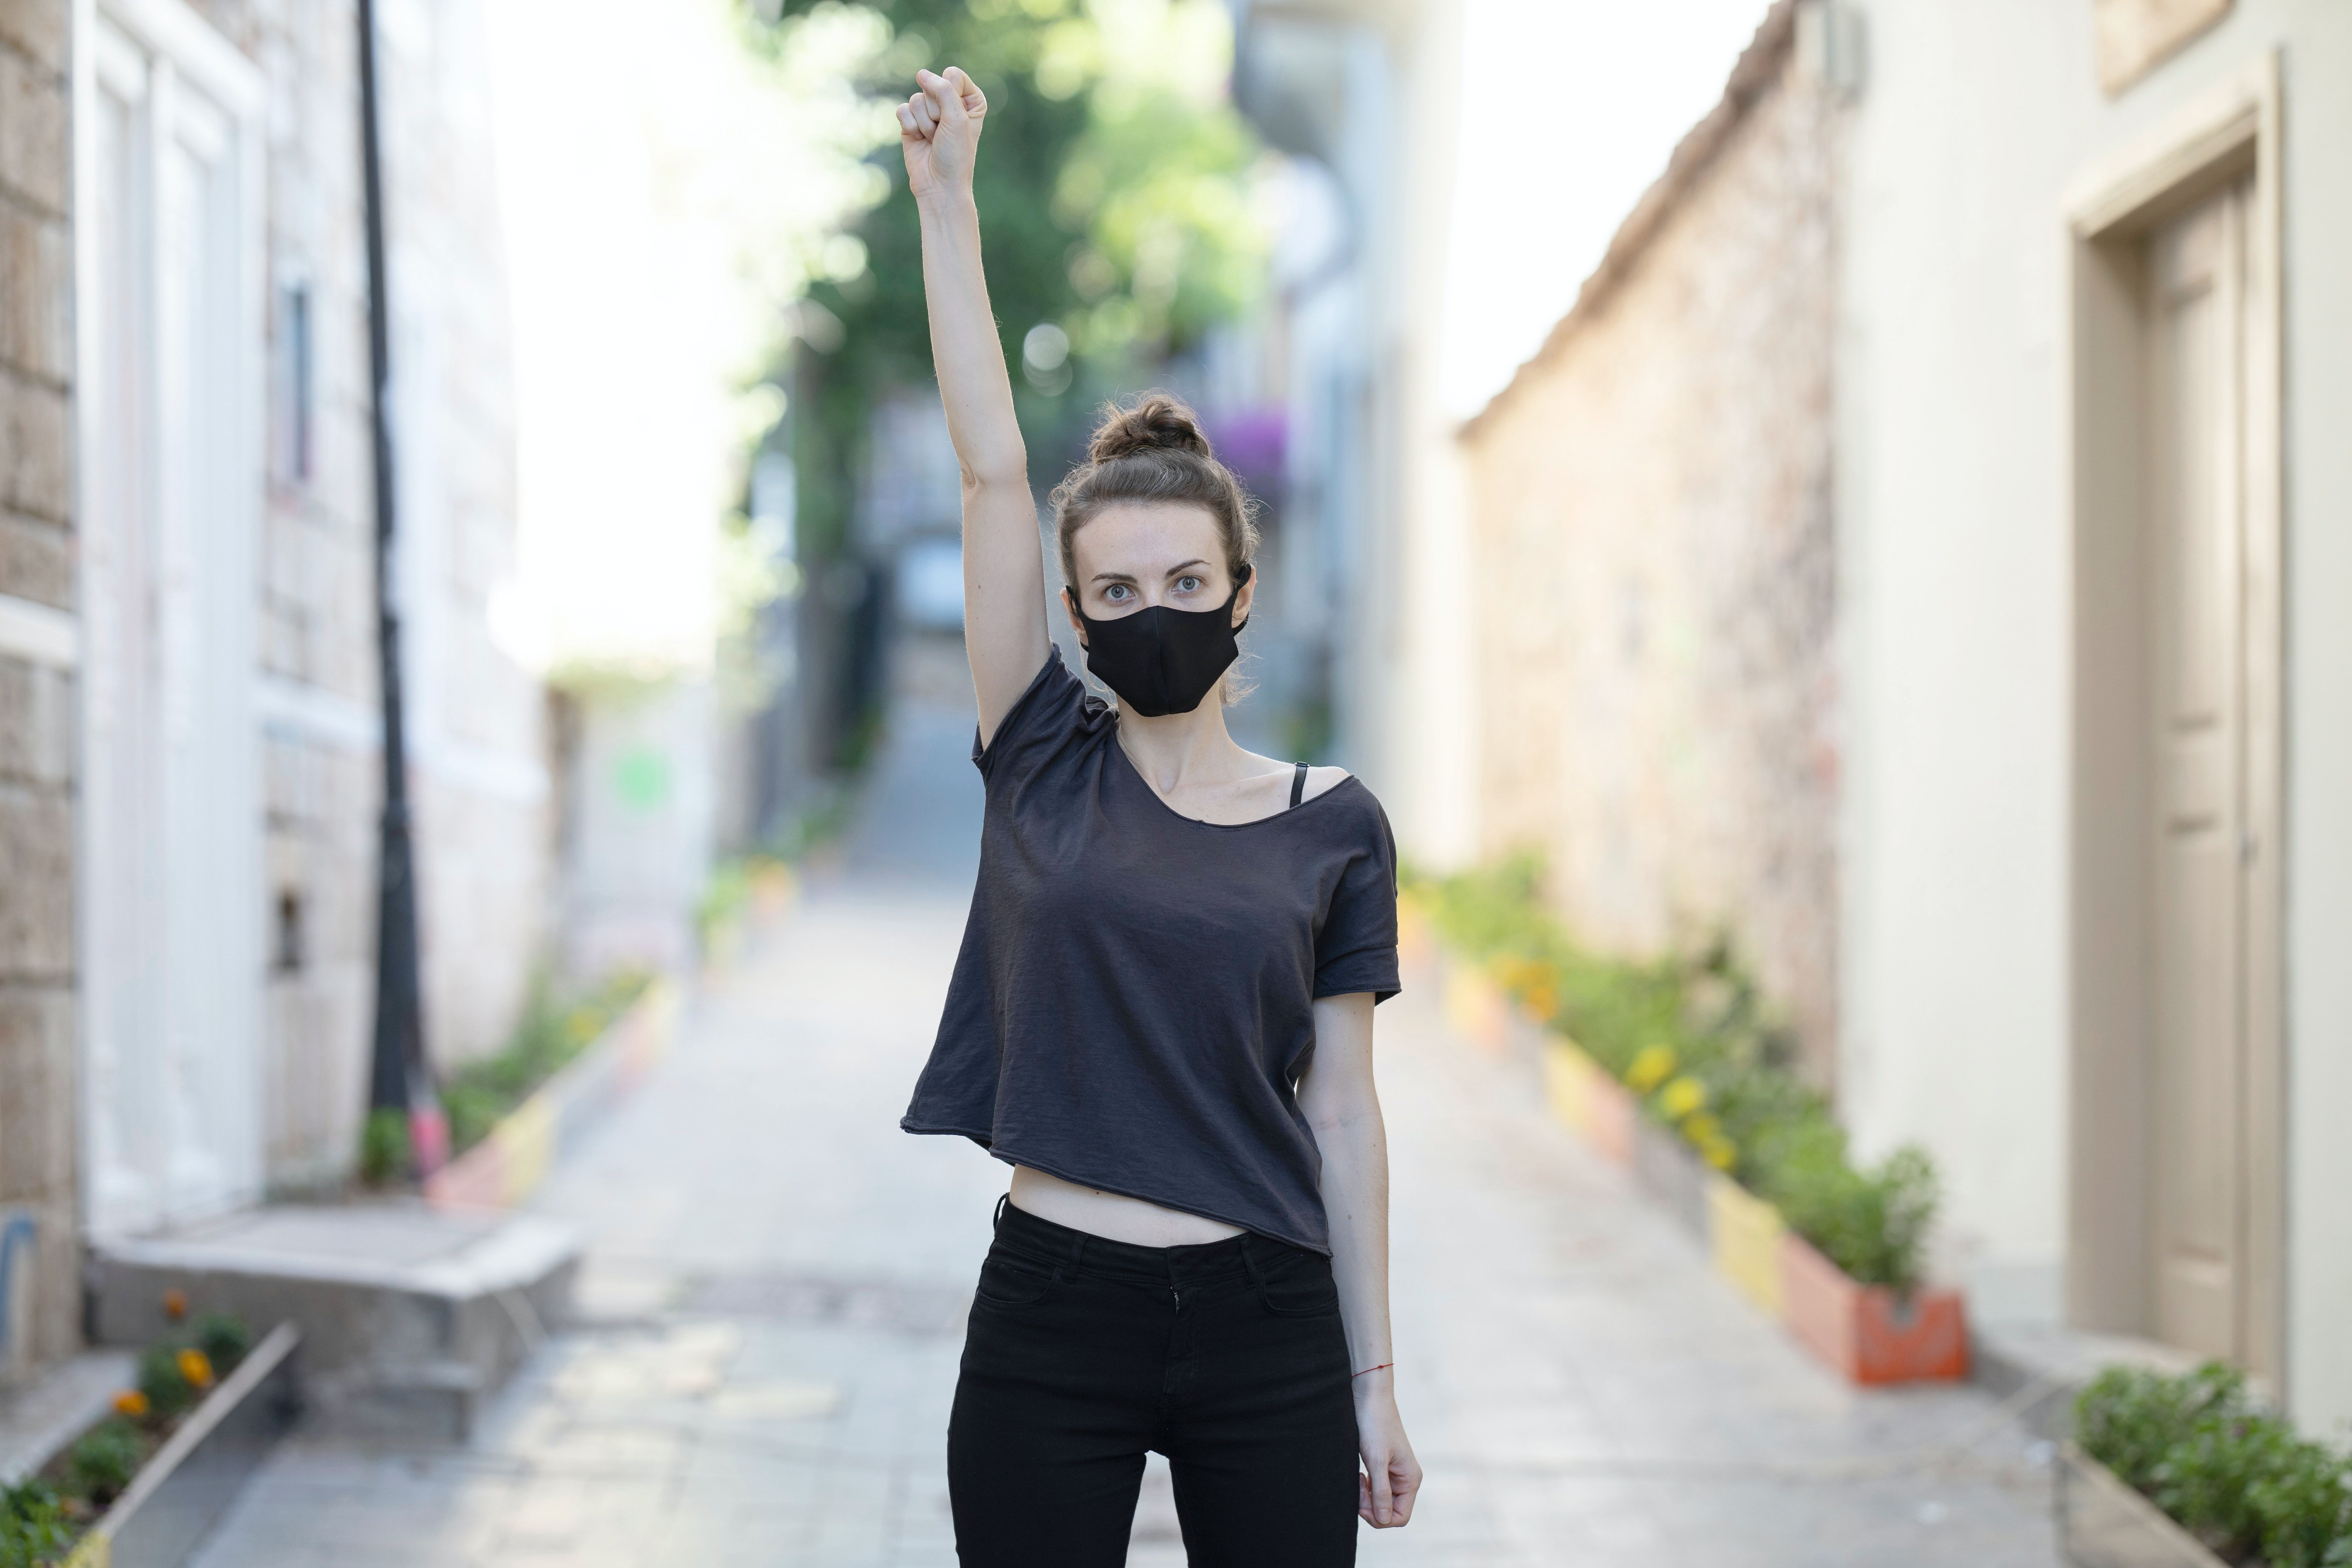mask: (1073, 597, 1274, 729)
person: (856, 43, 1423, 1556)
